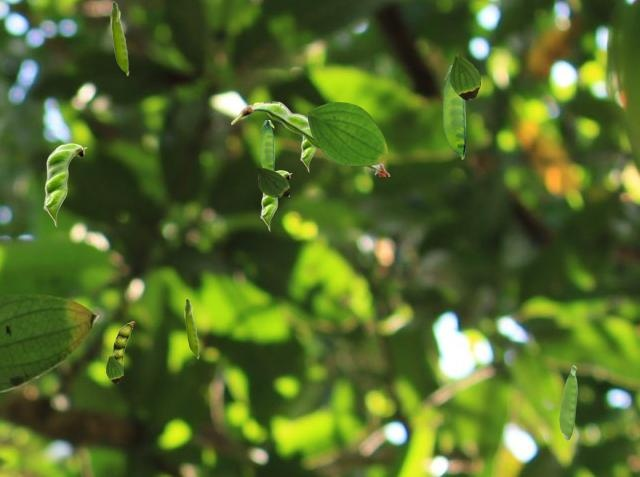pea: (231, 101, 389, 175), (43, 143, 86, 226), (443, 65, 464, 158), (260, 170, 291, 230), (110, 1, 128, 75), (559, 365, 576, 439), (112, 321, 134, 367), (184, 298, 198, 358), (260, 120, 273, 169), (300, 136, 316, 171)
